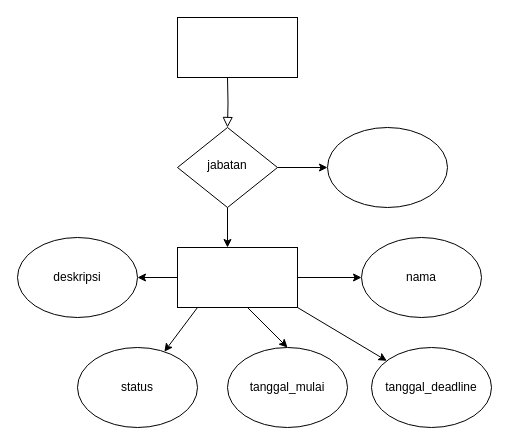
Image size: 509x445. Some labels were removed from this diagram. Here are the shapes that lost their labels. From the top down, the centre of each, then its label:
the point at 237,47: karyawan
the point at 387,167: staff
the point at 237,277: proyek
